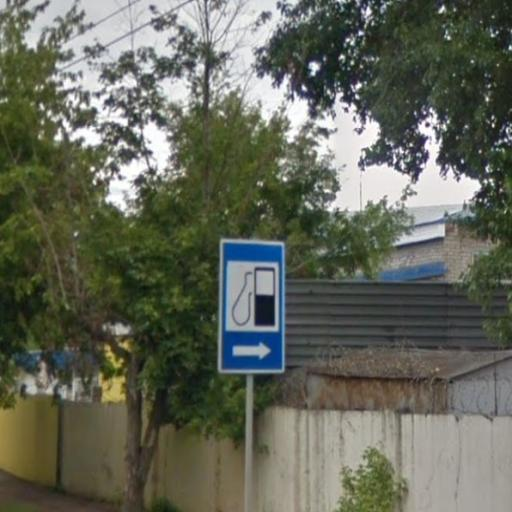traffic_sign: (215, 234, 290, 381)
